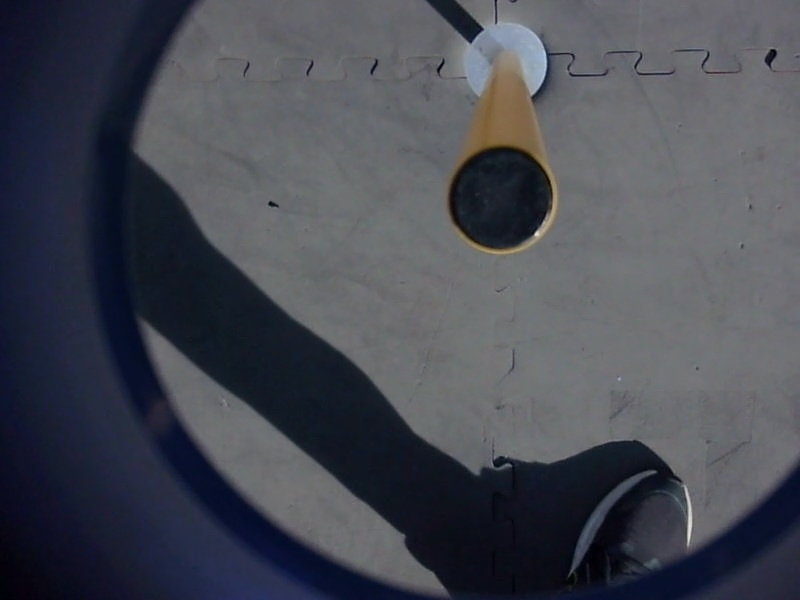tip: (439, 139, 567, 266)
